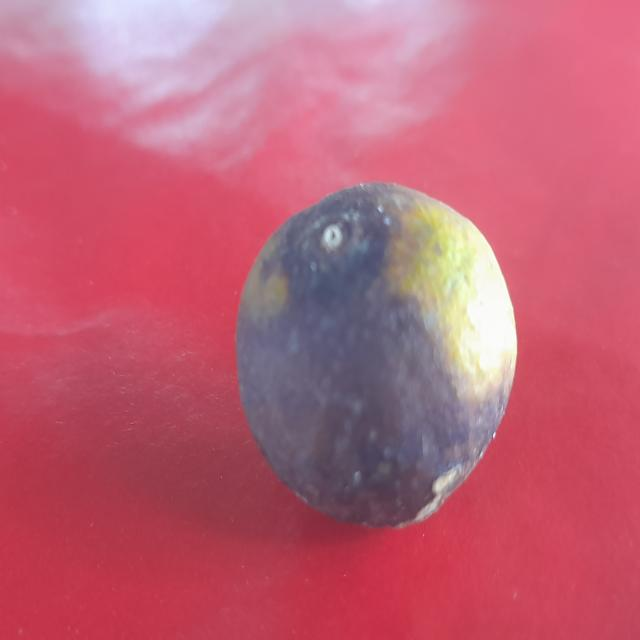black spot: (227, 168, 526, 546)
